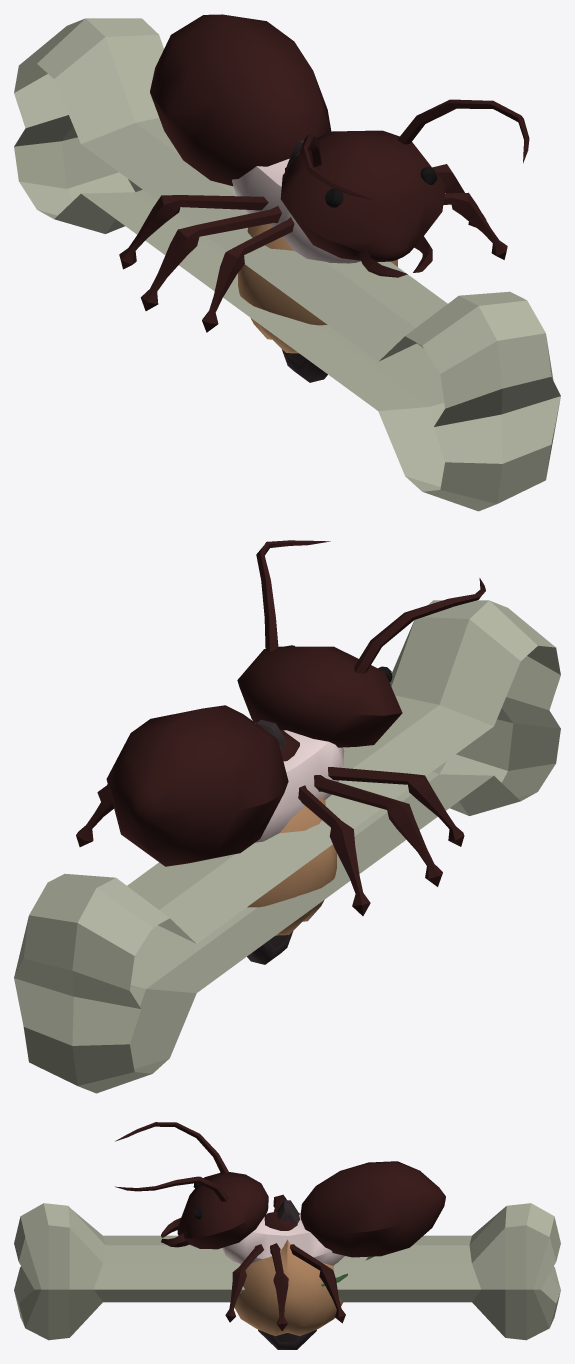
Rendered from Egg.fbx.
3 views of the same model, one above another, from view 1: azimuth 30°, elevation 25°; view 2: azimuth 150°, elevation 25°; view 3: azimuth 270°, elevation 25° (orthographic). The views are drawn at different scales.
Visible parts, largest first — view 1: Bone, Ant_Body, Egg, Seed_2, Seed_1; view 2: Bone, Ant_Body, Egg, Seed_2, Seed_1; view 3: Bone, Ant_Body, Seed_2, Egg, Seed_1.
Boxes of the visible parts, x1,y1,x2,y2 form: Bone: [14, 18, 560, 511]; Ant_Body: [119, 14, 529, 332]; Egg: [232, 158, 360, 263]; Seed_2: [238, 223, 397, 353]; Seed_1: [282, 140, 327, 382]; Bone: [14, 600, 560, 1093]; Ant_Body: [76, 540, 485, 915]; Egg: [255, 730, 344, 842]; Seed_2: [247, 797, 336, 935]; Seed_1: [247, 719, 293, 964]; Bone: [14, 1203, 560, 1340]; Ant_Body: [115, 1122, 445, 1331]; Seed_2: [234, 1239, 343, 1336]; Egg: [222, 1212, 344, 1265]; Seed_1: [258, 1200, 316, 1349].
Size of the model in its own units: 2.62 by 2.32 by 5.86.
